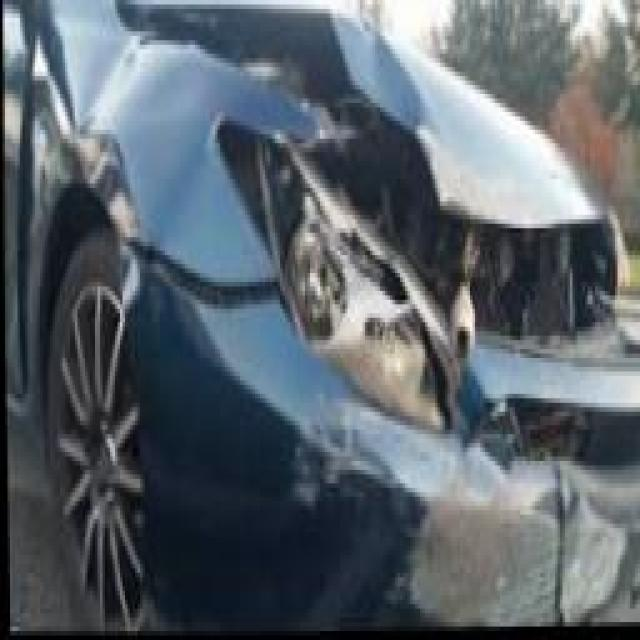Bonnet: (170, 0, 593, 225)
Bumper: (132, 327, 640, 636)
Fender: (42, 13, 241, 259)
Light: (248, 157, 468, 412)
